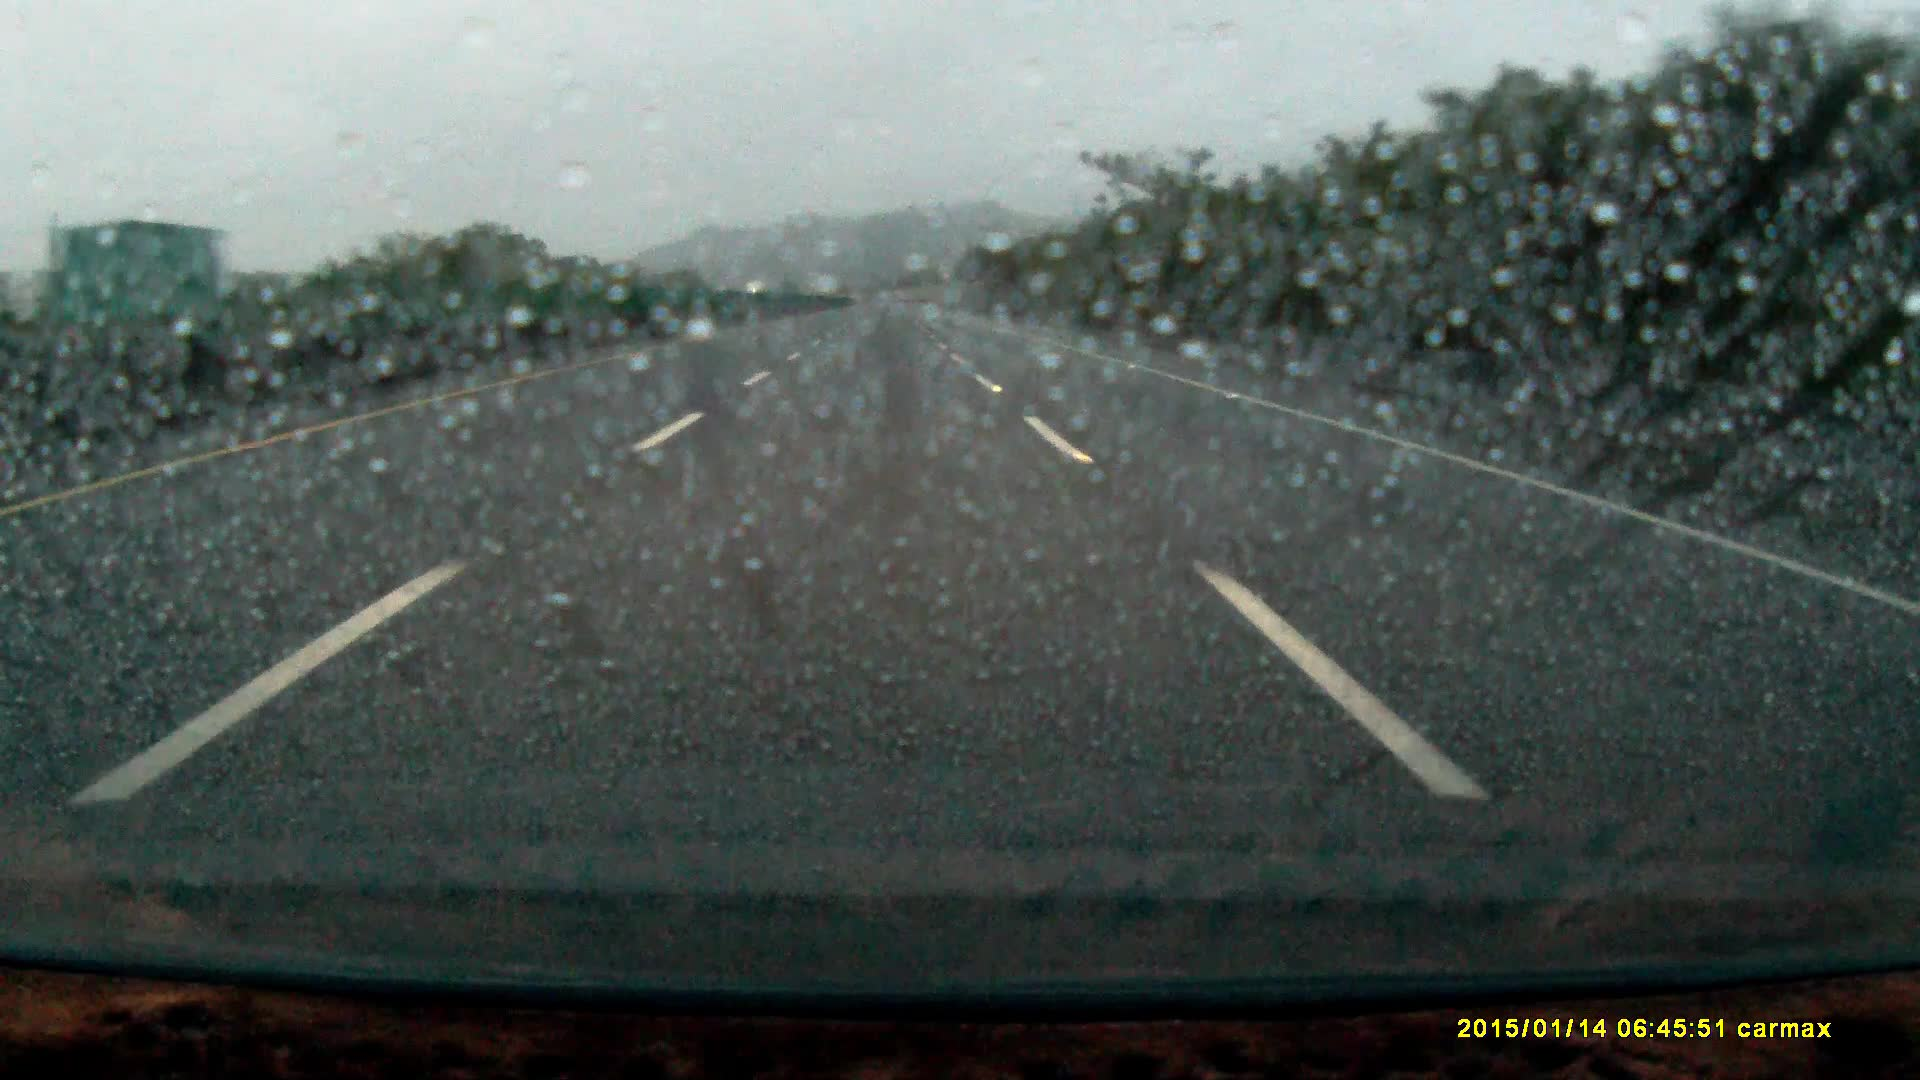vehicle: (3, 225, 248, 392)
